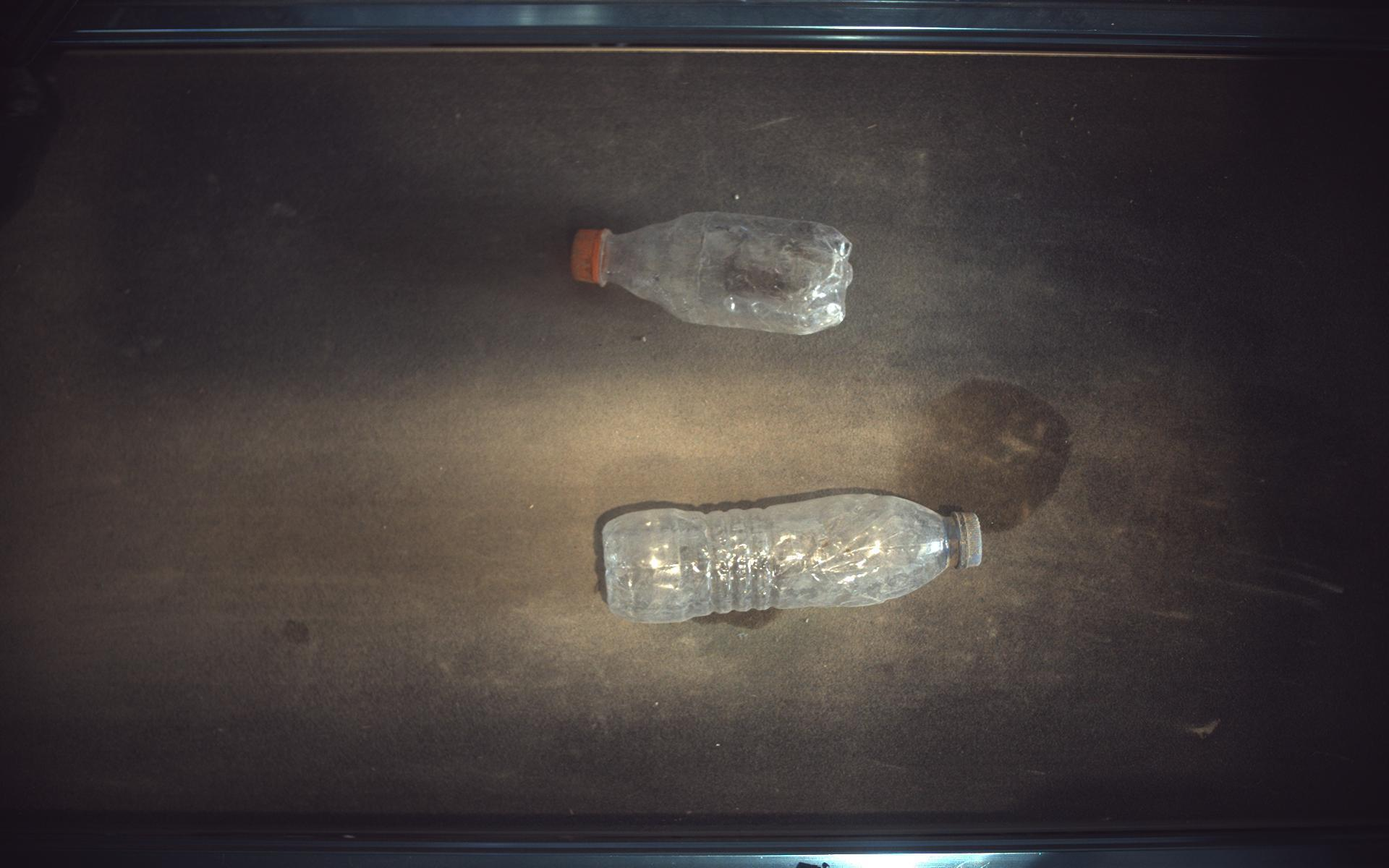general_w: (602, 493, 985, 624), (572, 211, 854, 334)
